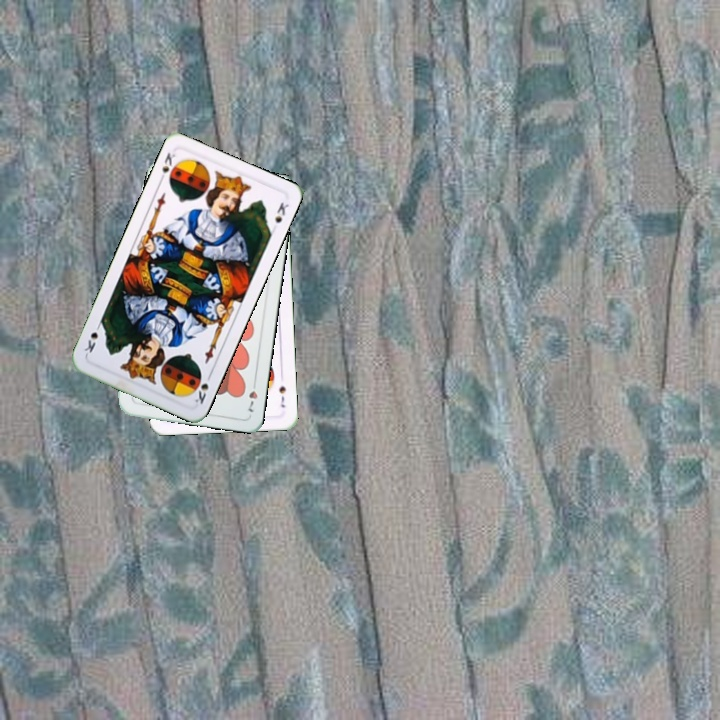H7: (244, 376, 260, 415)
S7: (275, 381, 288, 410)
SK: (191, 369, 214, 407), (155, 148, 178, 185)
